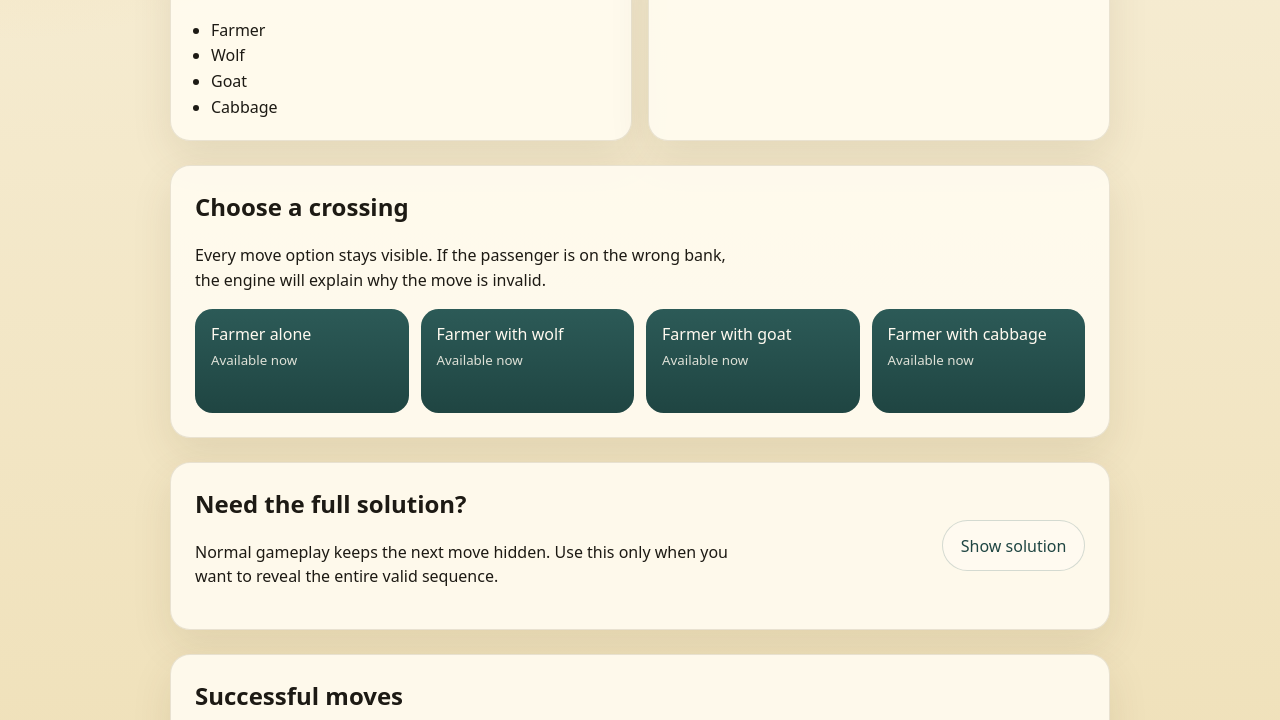
Test case: App browser gameplay flow › TC-US-01-3 / US-01 AC-3 updates the puzzle state and move history after a valid move
This screenshot has width=1280, height=720.
(page scrolled)
Click the button "Farmer with goat Available now". click: (753, 361)
box: [646,309,860,413]
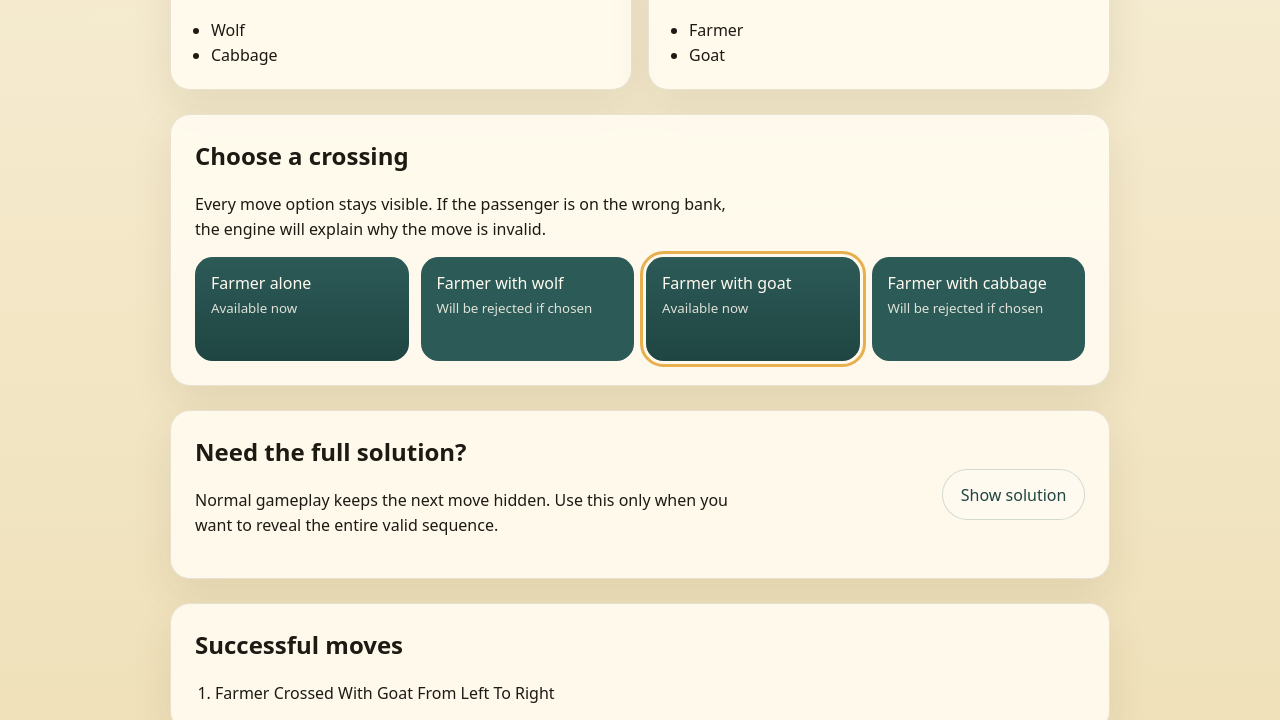
Now the element labelled "Right bank" shows "farmer", box [689,19,744,41]
Now the element labelled "Right bank" shows "goat", box [689,44,725,66]
Now the list item "Farmer crossed with goat from left to right" is shown, box [215,682,555,704]
